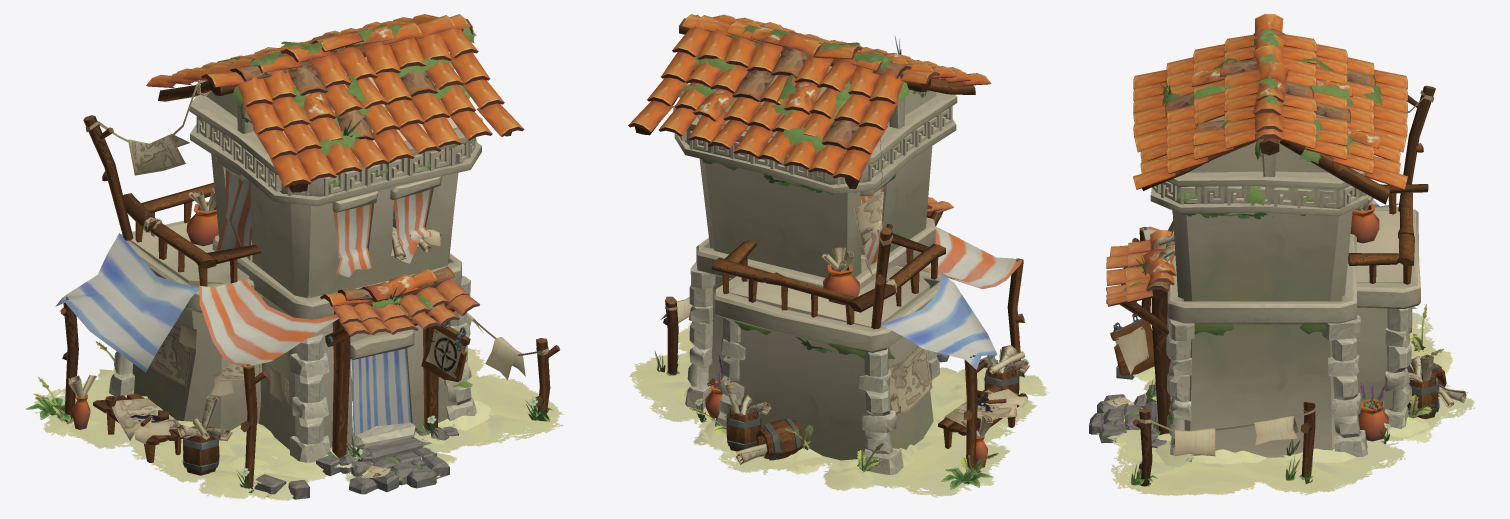
File: greek.glb
The picture shows the model from 3 angles, left to right: view 1: azimuth 30°, elevation 25°; view 2: azimuth 150°, elevation 25°; view 3: azimuth 270°, elevation 25°; orthographic projection. The views are drawn at different scales.
Visible parts, largest first — view 1: Object226_Material #2_0, Cylinder002_Material #2_0, Plane010, Plane011, Box038_Material #2_0, Plane081_Material #14_0, Plane016, Plane070_Material #14_0, Box007_Material #2_0, Plane012, Plane008, Plane072_Material #14_0 (+65 smaller); view 2: Object226_Material #2_0, Box008_Material #2_0, Box038_Material #2_0, Plane010, Plane072_Material #14_0, Object326_Material #2_0, Object325_Material #2_0, Plane011, Plane082_Material #14_0, Box007_Material #2_0, Plane070_Material #14_0, Plane031 (+60 smaller); view 3: Object226_Material #2_0, Cylinder002_Material #2_0, Box038_Material #2_0, Box007_Material #2_0, Plane081_Material #14_0, Plane082_Material #14_0, Object325_Material #2_0, Object327_Material #2_0, Object324_Material #2_0, Box008_Material #2_0, Object221_Material #2_0, Cylinder005 (+28 smaller).
Boxes of the visible parts, x1,y1,x2,y2 form: Object226_Material #2_0: (130, 57, 458, 449); Cylinder002_Material #2_0: (320, 266, 479, 457); Plane010: (55, 233, 199, 372); Plane011: (199, 278, 338, 367); Box038_Material #2_0: (189, 91, 482, 206); Plane081_Material #14_0: (422, 373, 564, 453); Plane016: (352, 348, 410, 436); Plane070_Material #14_0: (117, 429, 297, 482); Box007_Material #2_0: (212, 217, 461, 319); Plane012: (333, 204, 373, 277); Plane008: (216, 169, 251, 259); Plane072_Material #14_0: (34, 376, 124, 449); Object226_Material #2_0: (697, 54, 936, 460); Box008_Material #2_0: (713, 266, 941, 352); Box038_Material #2_0: (673, 92, 957, 194); Plane010: (881, 274, 997, 369); Plane072_Material #14_0: (825, 432, 1010, 497); Object326_Material #2_0: (859, 348, 903, 475); Object325_Material #2_0: (685, 261, 715, 409); Plane011: (905, 226, 1021, 289); Plane082_Material #14_0: (628, 353, 709, 424); Box007_Material #2_0: (696, 217, 935, 289); Plane070_Material #14_0: (918, 375, 1036, 452); Plane031: (889, 346, 932, 416); Object226_Material #2_0: (1172, 93, 1406, 458); Cylinder002_Material #2_0: (1106, 230, 1176, 435); Box038_Material #2_0: (1150, 142, 1368, 216); Box007_Material #2_0: (1167, 230, 1356, 324); Plane081_Material #14_0: (1111, 429, 1256, 495); Plane082_Material #14_0: (1219, 439, 1405, 495); Object325_Material #2_0: (1322, 315, 1367, 456); Object327_Material #2_0: (1384, 307, 1412, 428); Object324_Material #2_0: (1166, 313, 1194, 462); Box008_Material #2_0: (1357, 206, 1420, 308); Object221_Material #2_0: (1280, 140, 1389, 204); Cylinder005: (1398, 85, 1435, 211).
Size of the model in its own units: 84.16 by 70.15 by 71.15.
Materials: 2 (2 with a texture image).
